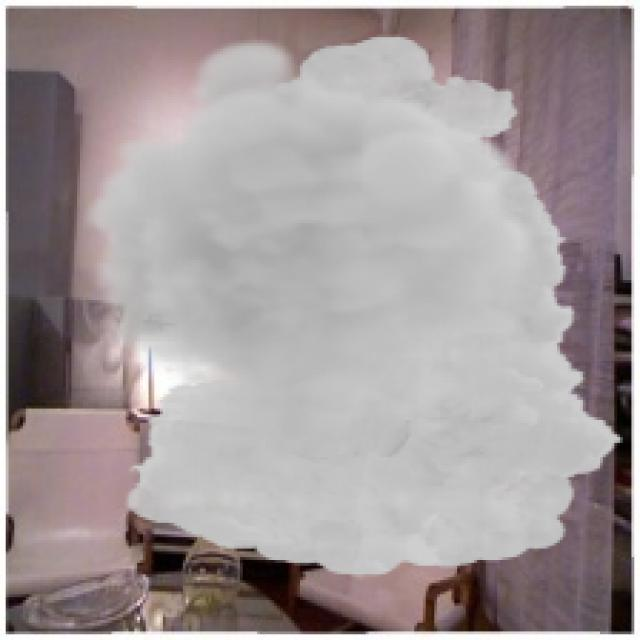smoke: (83, 34, 626, 577)
